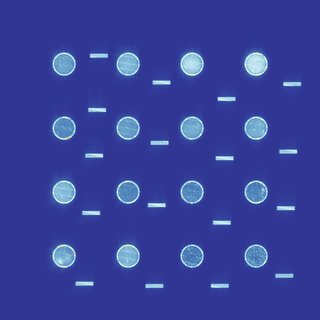overheated: (64, 136, 71, 140), (256, 73, 262, 76), (117, 131, 120, 134), (73, 251, 76, 254), (264, 67, 267, 70), (265, 259, 268, 261)
